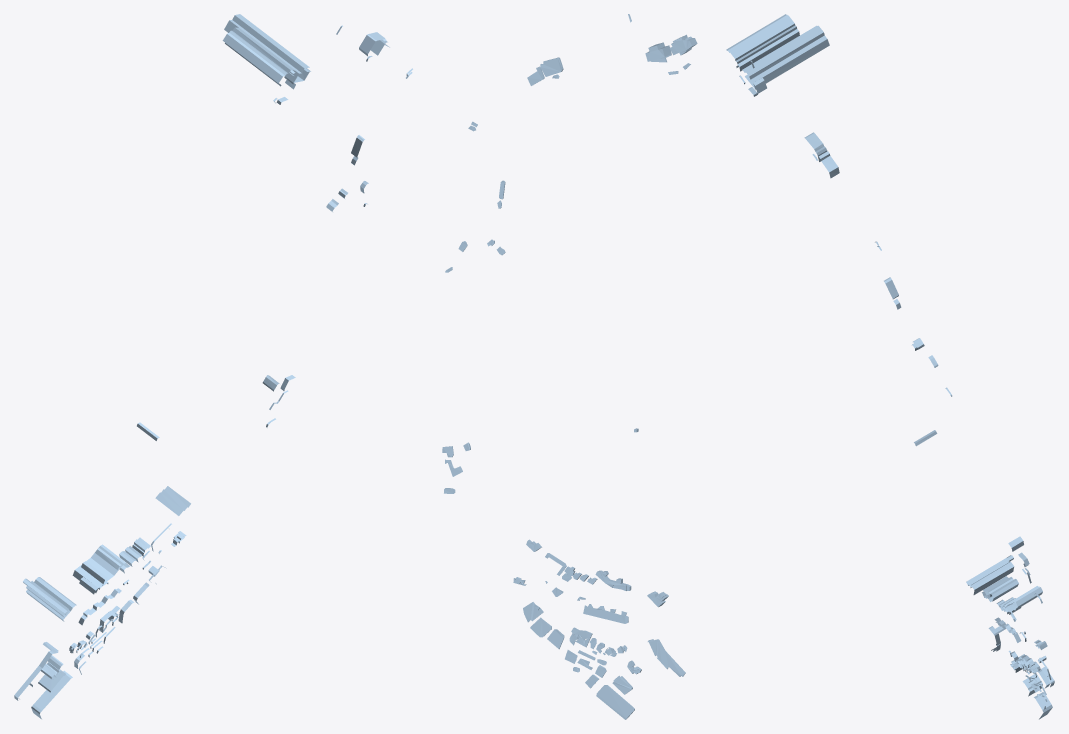
3 renders of one model, left to right at view 1: azimuth 30°, elevation 25°; view 2: azimuth 150°, elevation 25°; view 3: azimuth 270°, elevation 25°, orthographic. The views are drawn at different scales.
Visible parts, largest first — view 1: geometry_0; view 2: geometry_0; view 3: geometry_0.
Part boxes in pixels (box(x1,y1,x2,y2)): geometry_0: box(14, 14, 412, 719); geometry_0: box(442, 14, 697, 719); geometry_0: box(726, 14, 1054, 719).
Bounding box in the file's own units: 474 × 1027 × 418.
